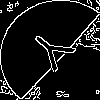Y: (25, 25, 84, 80)
